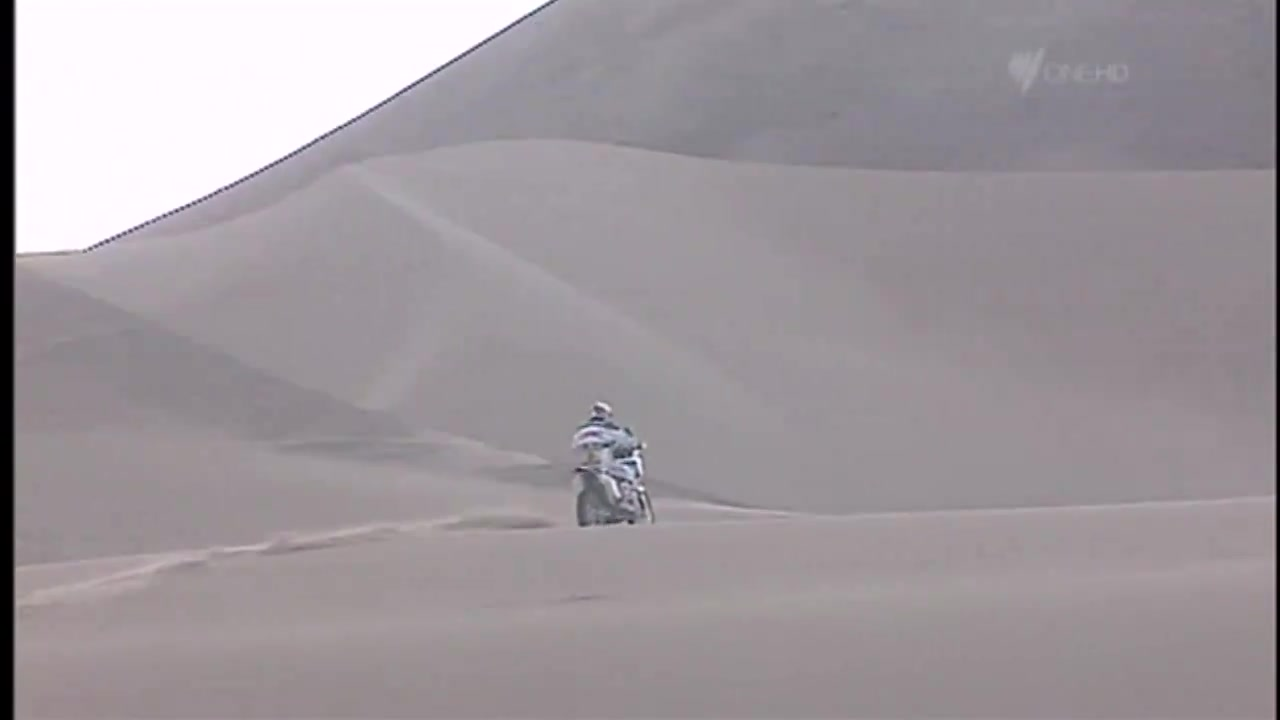motorbike: (573, 435, 659, 531)
